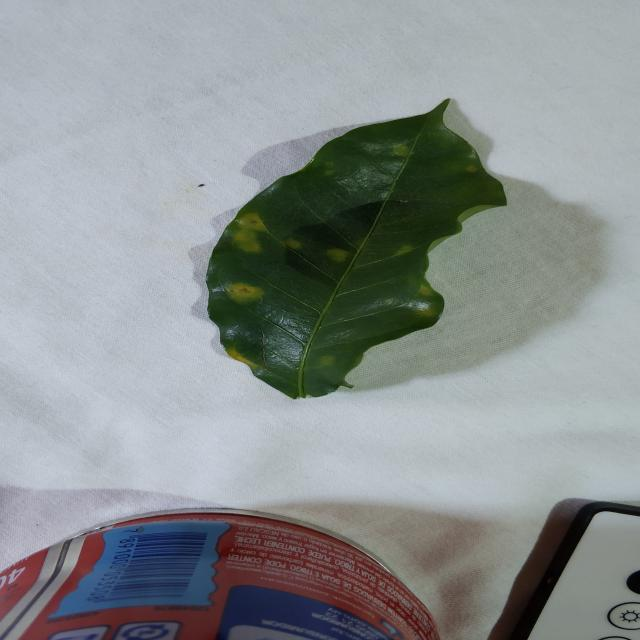Enfermedad-Roya: (205, 101, 509, 402)
